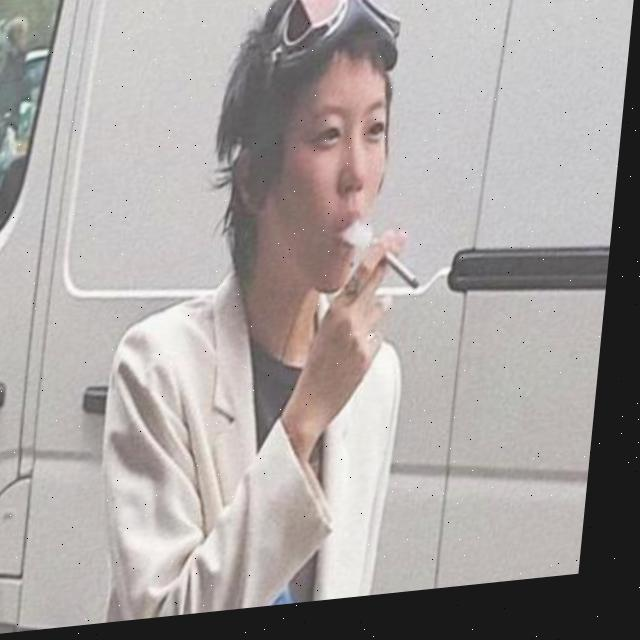cigarette: (386, 259, 431, 302)
